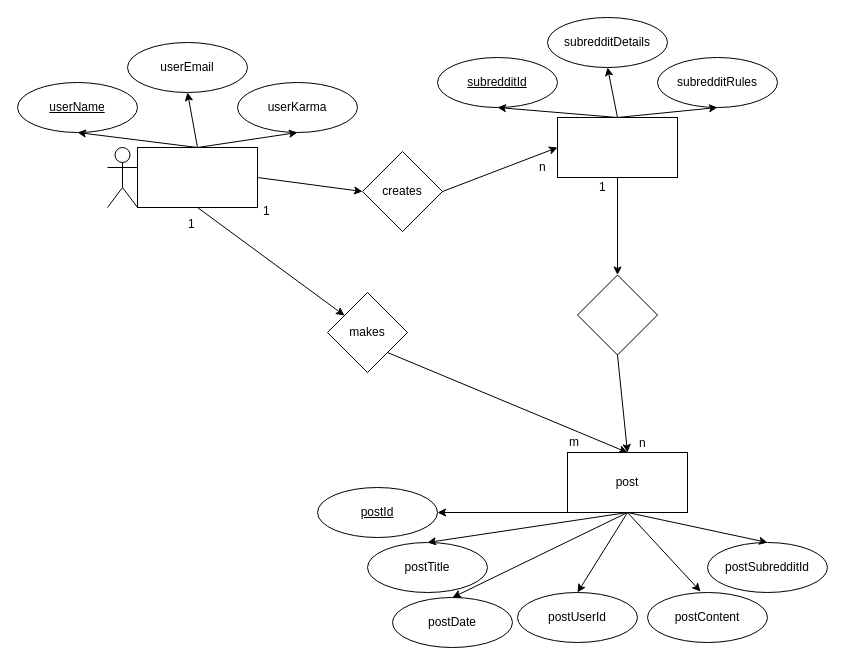
Image size: 845x665. Some labels were removed from this diagram. The shapes that lost their labels are listed below. From the top down, each one's box as (x1, y1, x2, y2) in pixels, then its label:
(556, 116, 678, 178): subreddit
(106, 146, 138, 208): Actor
(136, 146, 258, 208): user
(576, 274, 658, 355): has
